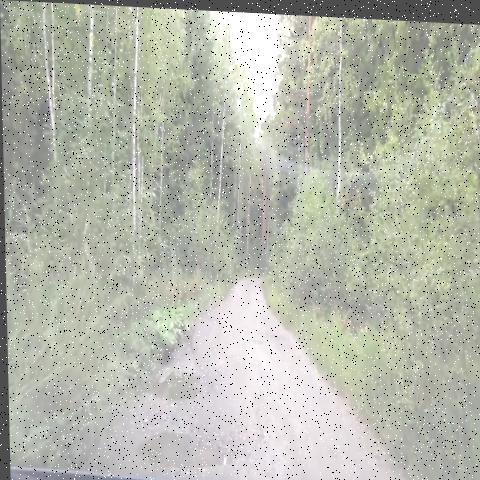pothole: (121, 405, 246, 480), (134, 349, 205, 416)
